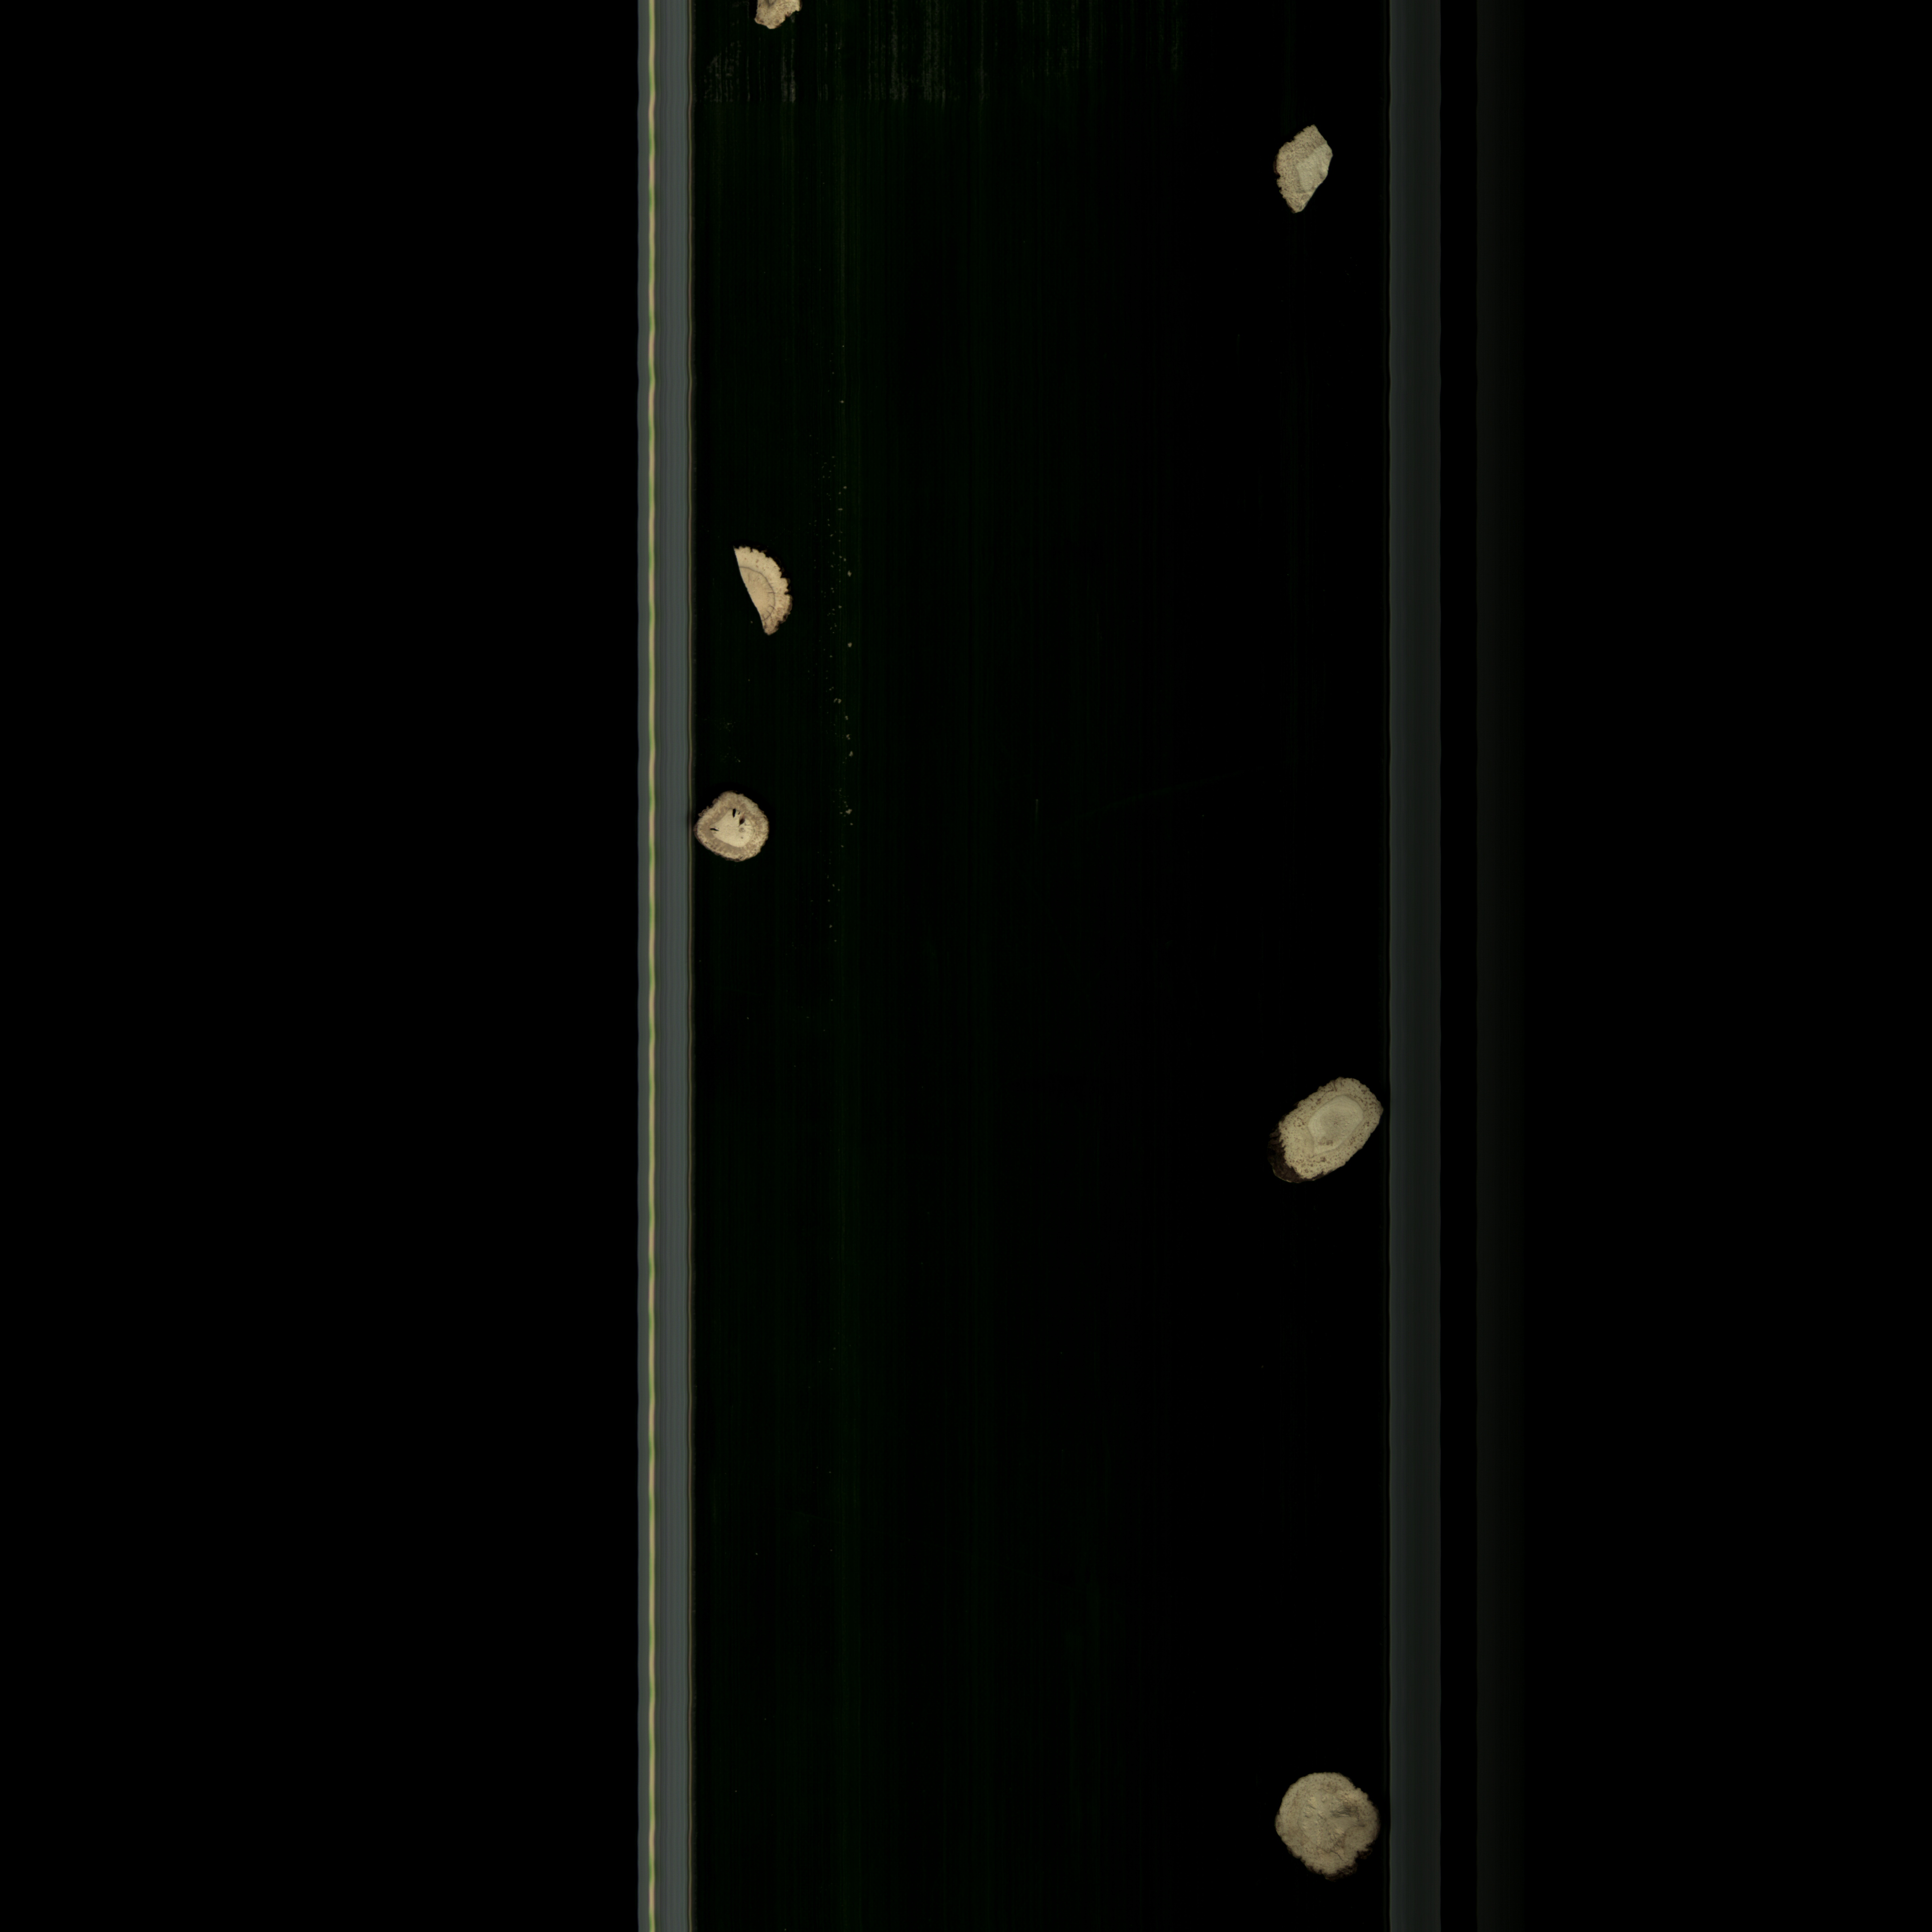debris: (1263, 115, 1348, 223)
moldy: (1267, 1067, 1384, 1196), (1260, 1769, 1387, 1886), (722, 536, 801, 642), (694, 791, 773, 874), (750, 0, 810, 34)
